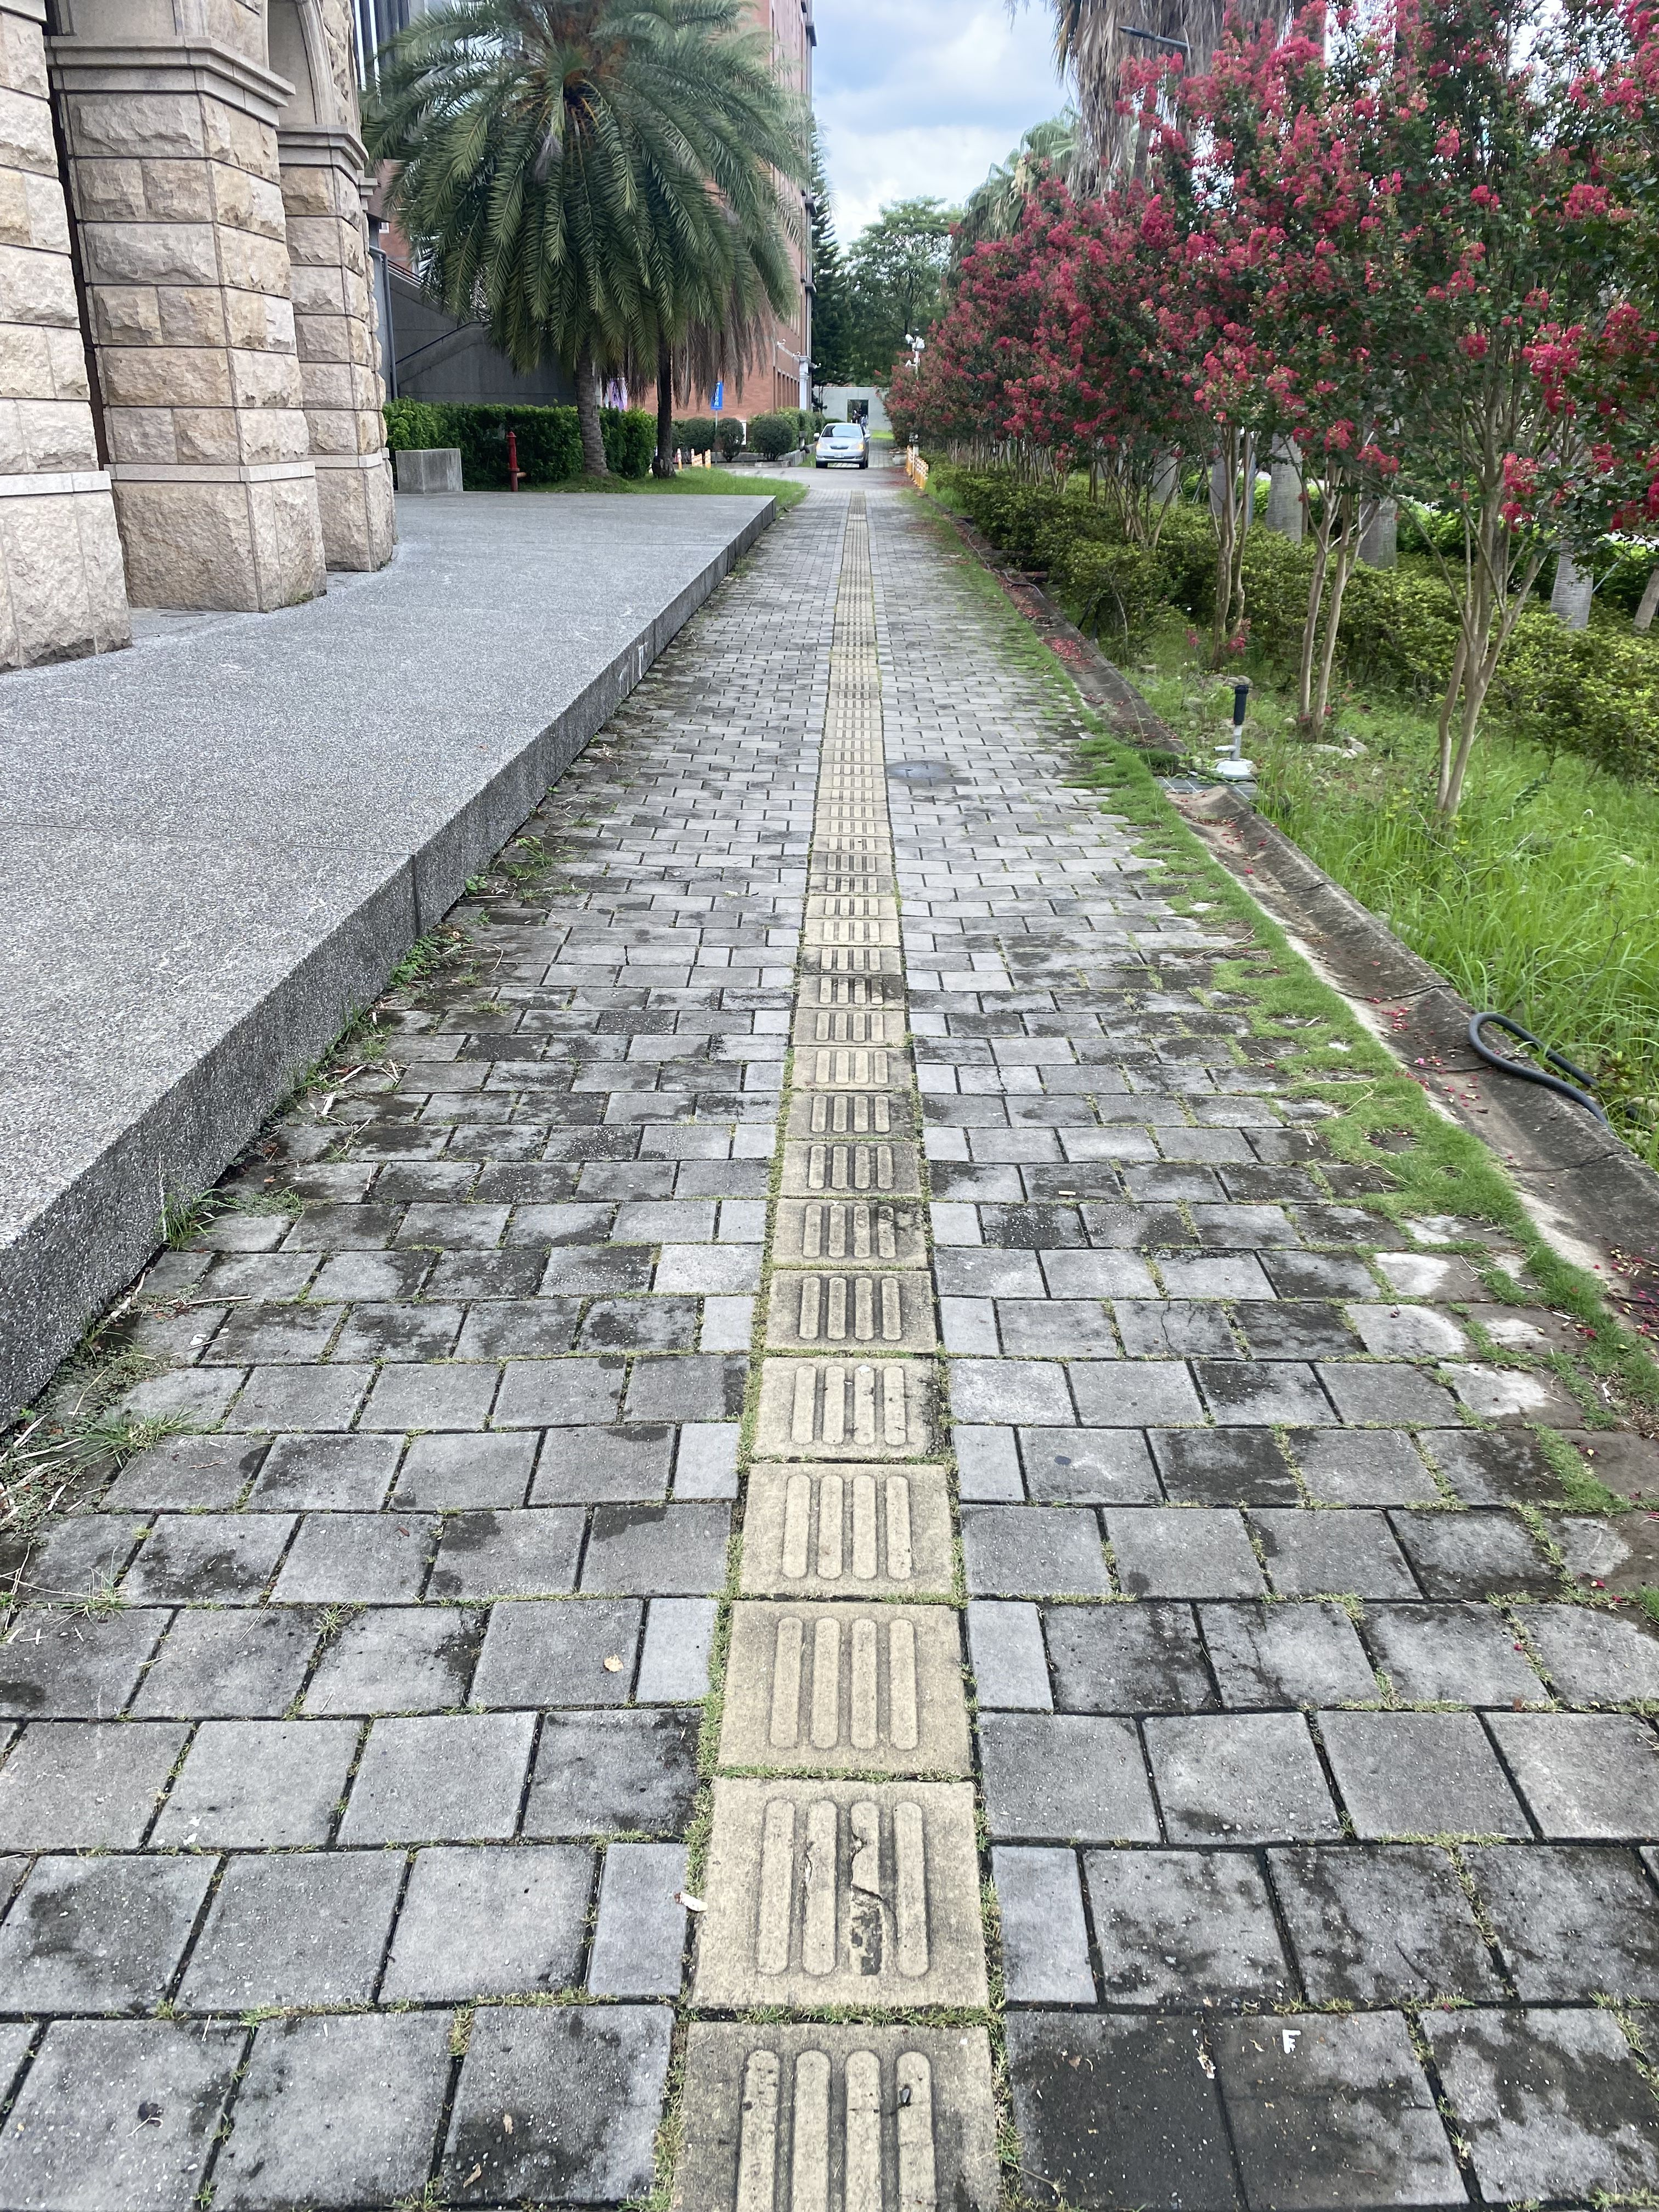0: (3, 655, 1659, 2212)
sidewalk: (673, 475, 1253, 1442)
